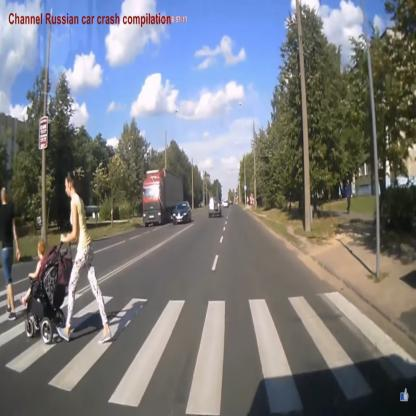crosswalk: (12, 286, 411, 406)
